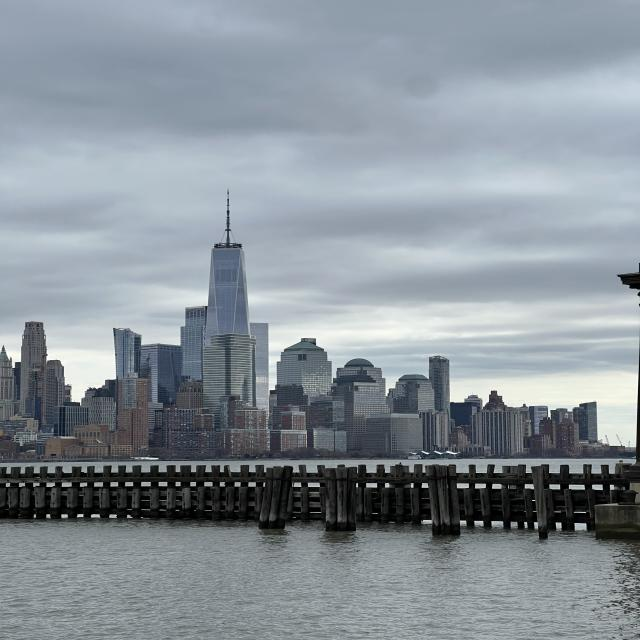WTC: (207, 190, 250, 334)
